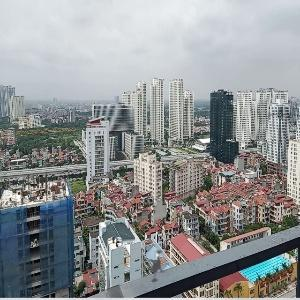drone: (127, 233, 194, 300)
